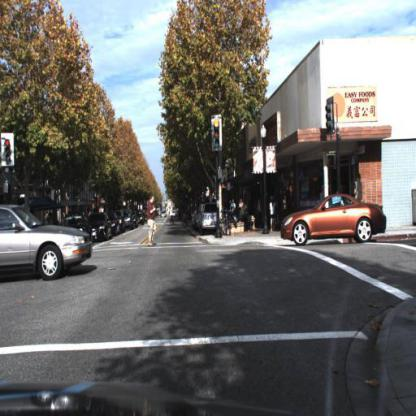car: (1, 201, 94, 286), (280, 192, 390, 247), (59, 214, 93, 251), (88, 212, 115, 239), (111, 214, 127, 236), (120, 211, 135, 231)
pedestrian: (352, 171, 366, 232), (267, 190, 282, 236), (238, 198, 254, 237), (146, 194, 157, 248), (269, 194, 278, 232), (259, 190, 265, 238), (61, 211, 67, 219)
trafficLight: (210, 117, 225, 158), (1, 132, 15, 170)
